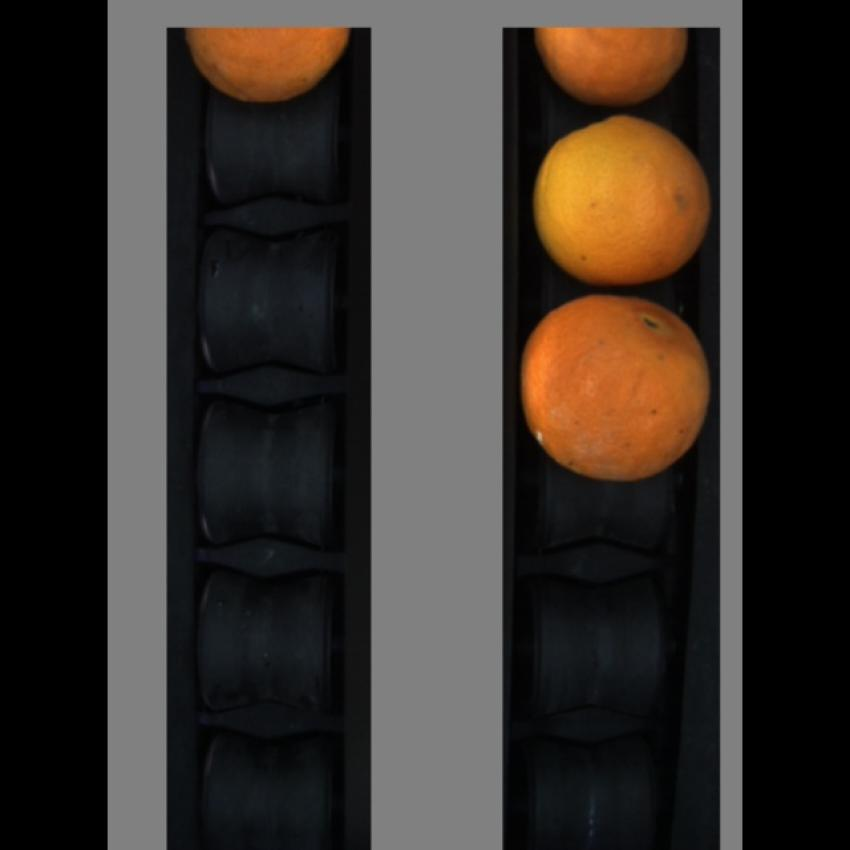Mal estado: (516, 292, 720, 484), (531, 117, 717, 287), (179, 29, 356, 109), (529, 28, 703, 107)
